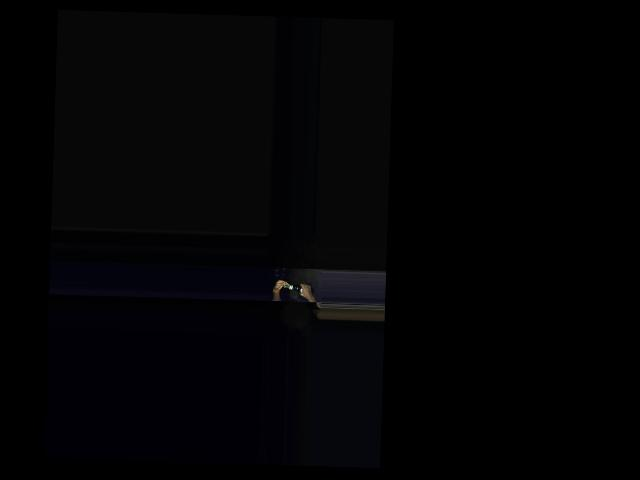beer: (284, 284, 314, 295)
